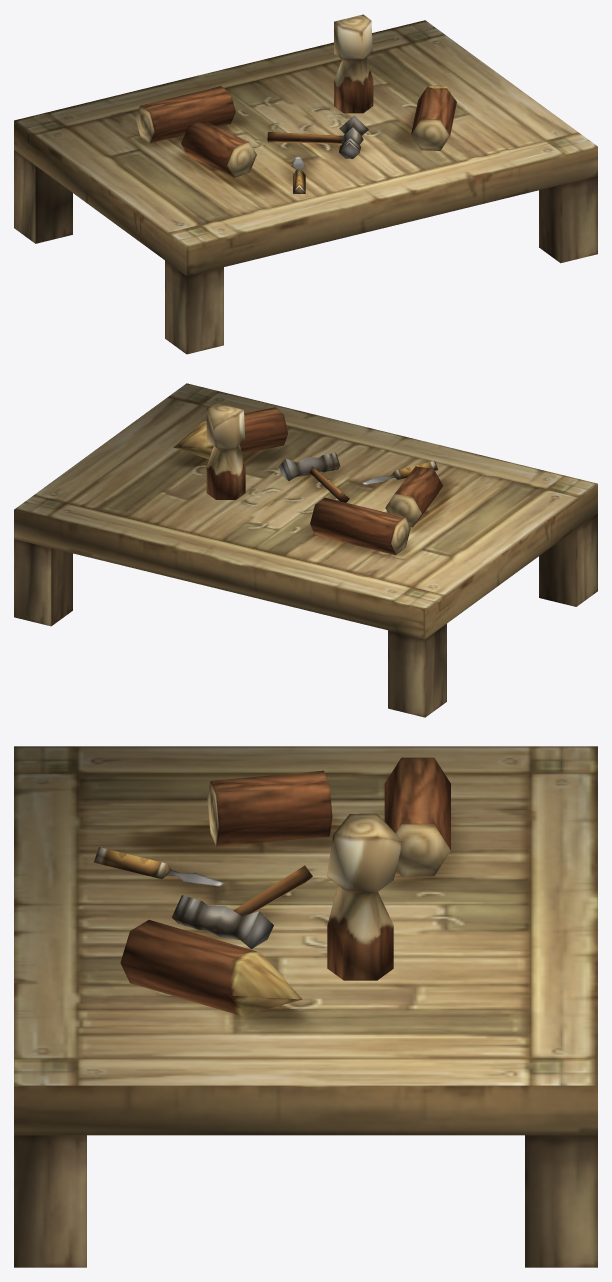
The model's file is a_SWAtable01.glb.
3 renders of one model, top to bottom at view 1: azimuth 30°, elevation 25°; view 2: azimuth 150°, elevation 25°; view 3: azimuth 270°, elevation 25°, orthographic. The views are drawn at different scales.
Parts seen in each view (by area): view 1: a_SWAtable01; view 2: a_SWAtable01; view 3: a_SWAtable01.
Boxes of the visible parts, x1,y1,x2,y2 form: a_SWAtable01: [14, 14, 597, 354]; a_SWAtable01: [14, 383, 597, 717]; a_SWAtable01: [14, 746, 597, 1267].
Bounding box in the file's own units: 2.2 × 0.982 × 1.6.
Materials: 1 (1 with a texture image).
